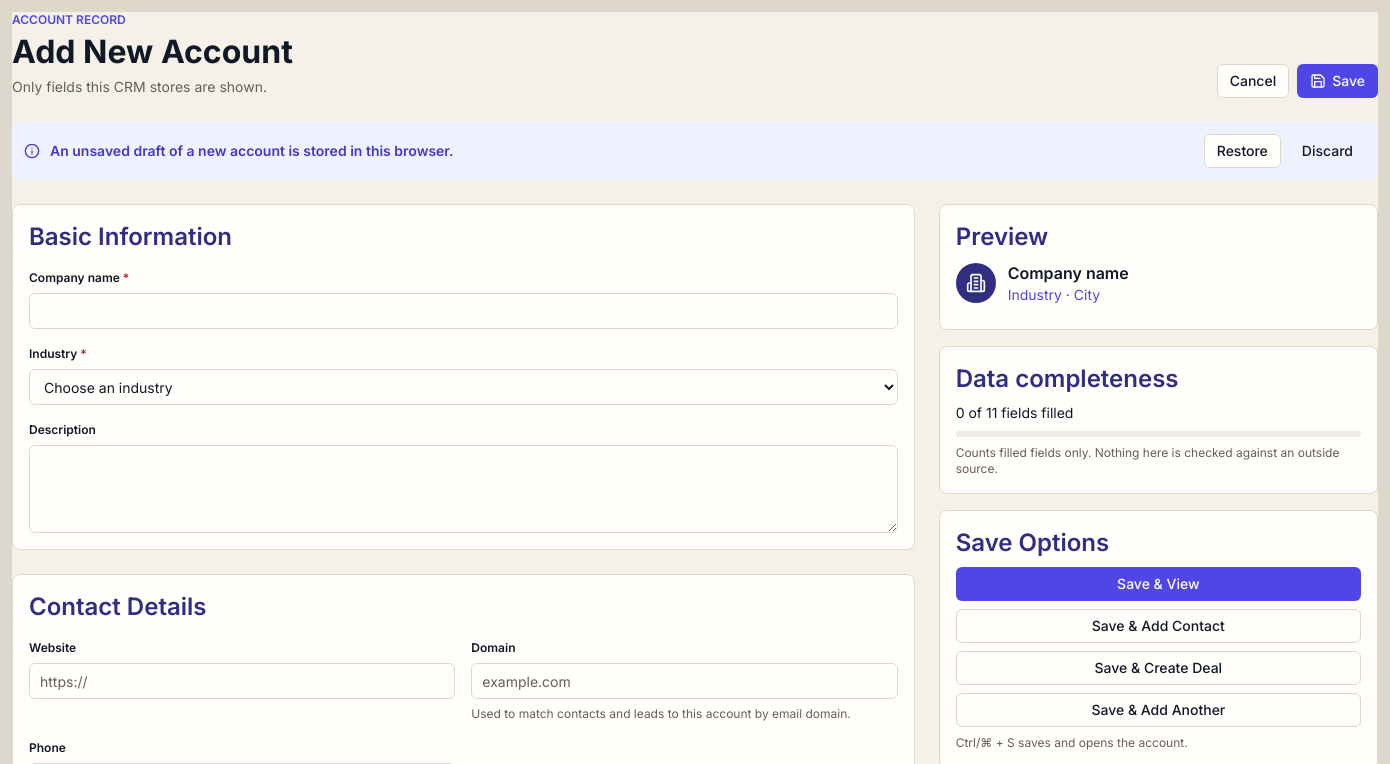
Test: Edit Account — only what saves, nothing invented › a stored draft is OFFERED inline — no browser dialog
Click the button "Restore": {"x": 1242, "y": 151} [1204, 134, 1281, 168]
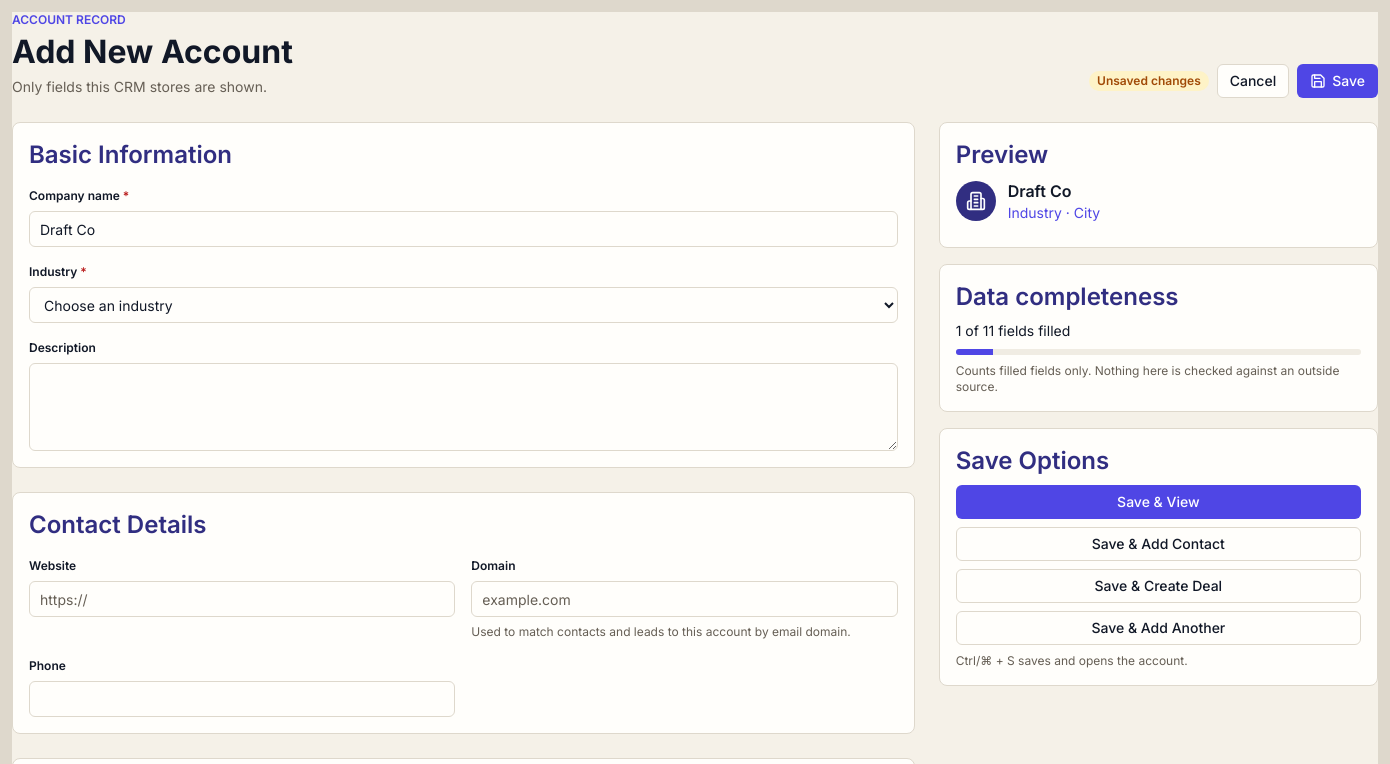
Now the field showing "Draft Co" is shown, box [29, 211, 898, 247]
